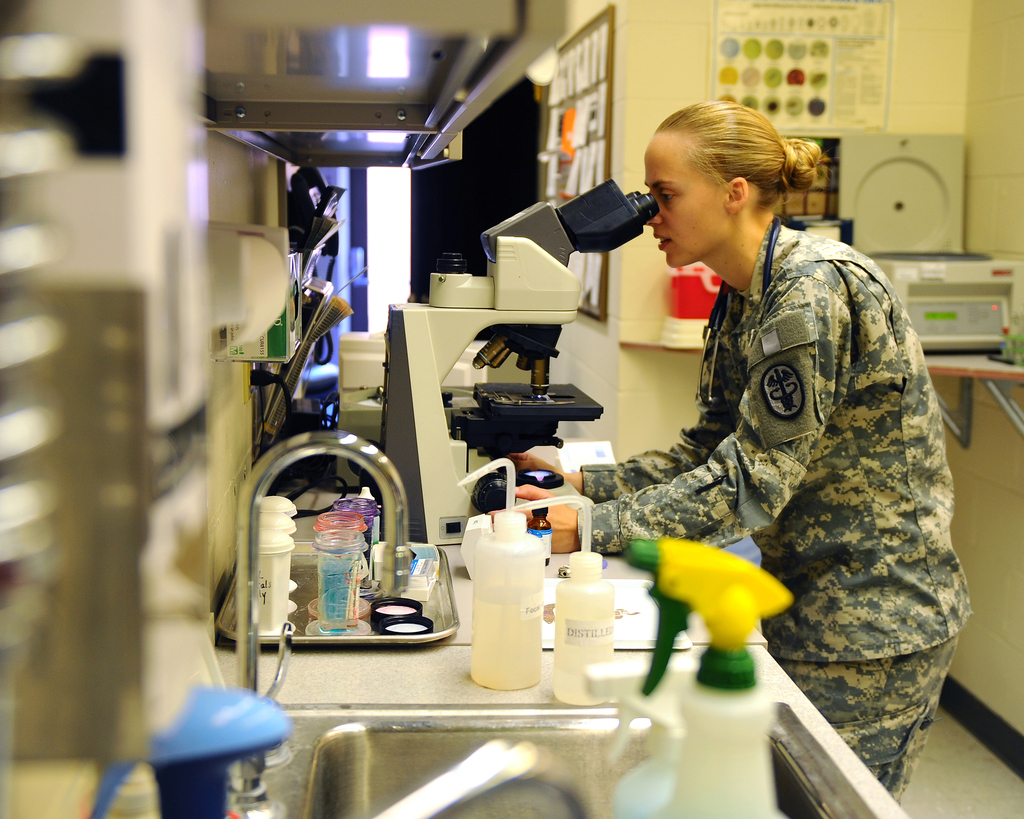Person: (486, 100, 974, 807)
